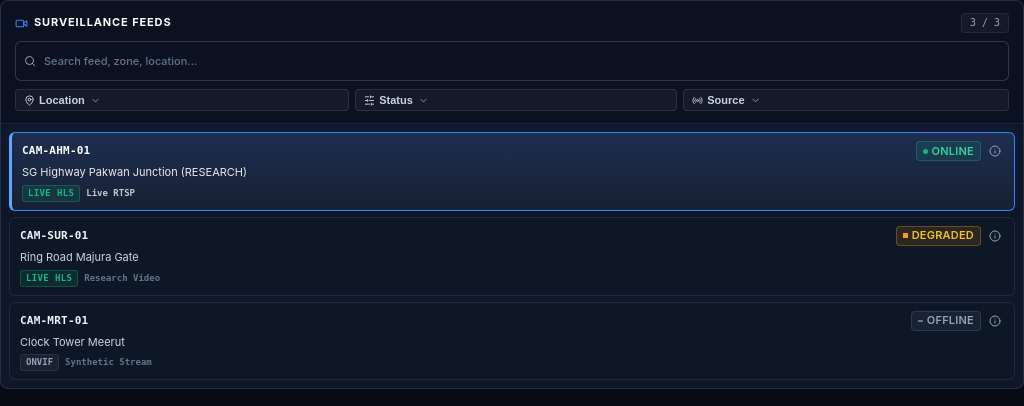
Live CCTV Monitoring Page & Components › Scalable Dynamic Location & Multi-faceted Filtering (Part 2) › shows empty state when no cameras match combined filters and provides reset
The width and height of the screenshot is (1024, 406).
Search for nonexistent camera
In the field with test id "camera-search-input": {"x": 512, "y": 61} [15,41,1009,81], type "NonexistentLocationXYZ"
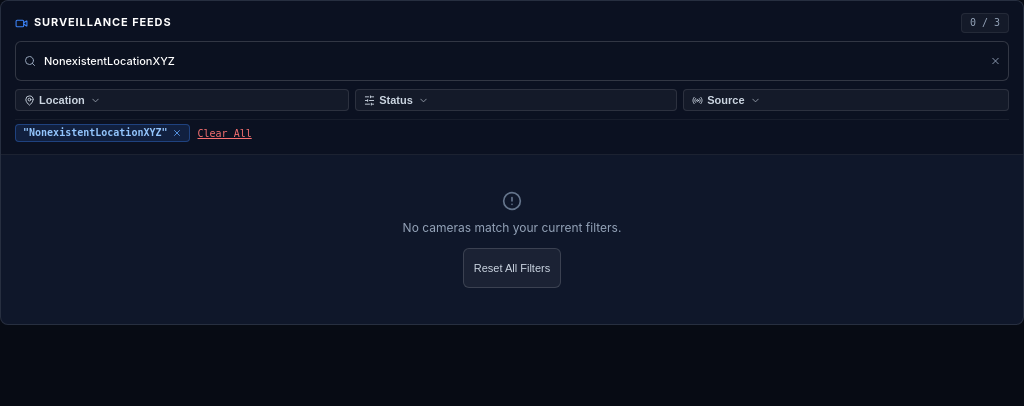
expect the element with test id "camera-empty-state" is shown: met, box [403,191,621,288]
expect the text "No cameras match your current filters." is shown: met, box [403,219,621,236]
Reset filters button
Click the button "Reset All Filters": {"x": 512, "y": 268} [463,248,561,288]
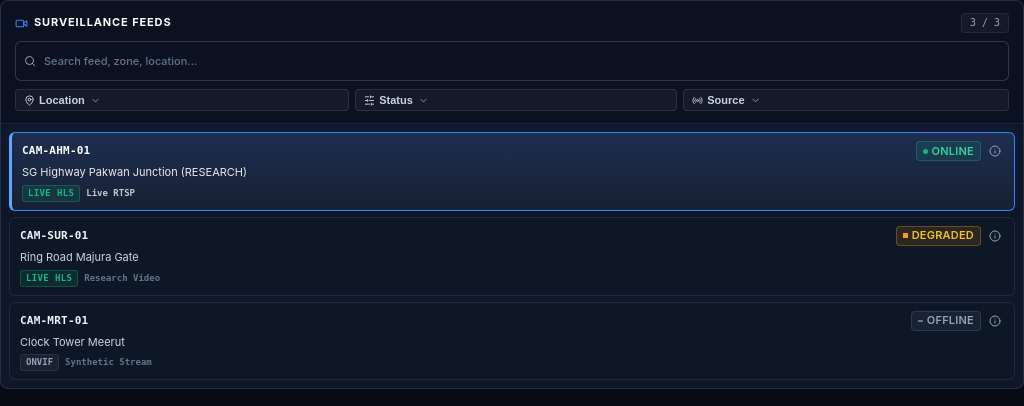
expect the element with test id "camera-empty-state" is gone: met
expect the button with test id "camera-item-CAM-AHM-01: SG Highway Pakwan Junction (RESEARCH)" is shown: met, box [9,132,1015,211]
